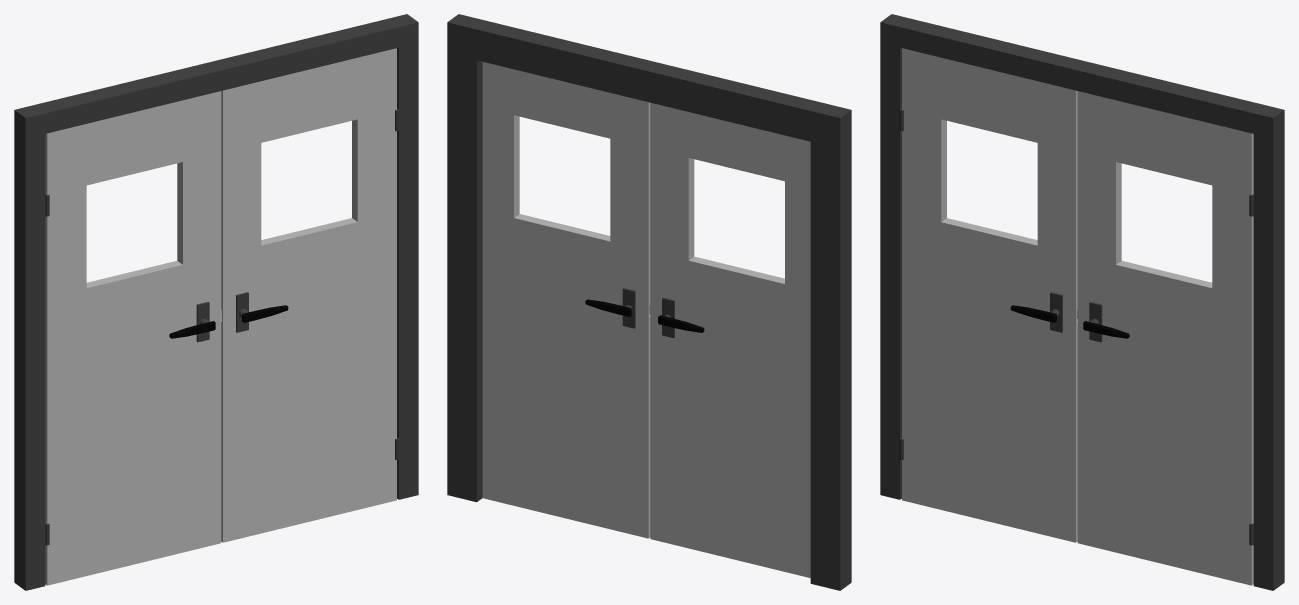
The model's file is BNG_Door_Metal_Double.fbx.
3 renders of one model, left to right at view 1: azimuth 30°, elevation 25°; view 2: azimuth 150°, elevation 25°; view 3: azimuth 330°, elevation 25°, orthographic.
Visible parts, largest first — view 1: Door_Metal_Double_A, Door_Metal_Double_B, Door_Metal_Double_Frame; view 2: Door_Metal_Double_B, Door_Metal_Double_A, Door_Metal_Double_Frame; view 3: Door_Metal_Double_B, Door_Metal_Double_A, Door_Metal_Double_Frame.
Boxes of the visible parts, bbox=[...] form: Door_Metal_Double_A: bbox=[45, 91, 221, 585]; Door_Metal_Double_B: bbox=[221, 48, 399, 542]; Door_Metal_Double_Frame: bbox=[14, 14, 418, 590]; Door_Metal_Double_B: bbox=[482, 62, 650, 538]; Door_Metal_Double_A: bbox=[650, 102, 810, 577]; Door_Metal_Double_Frame: bbox=[447, 14, 851, 590]; Door_Metal_Double_B: bbox=[1077, 91, 1253, 585]; Door_Metal_Double_A: bbox=[899, 48, 1077, 542]; Door_Metal_Double_Frame: bbox=[880, 14, 1284, 590].
Bounding box in the file's own units: 200 × 230 × 17.29.
